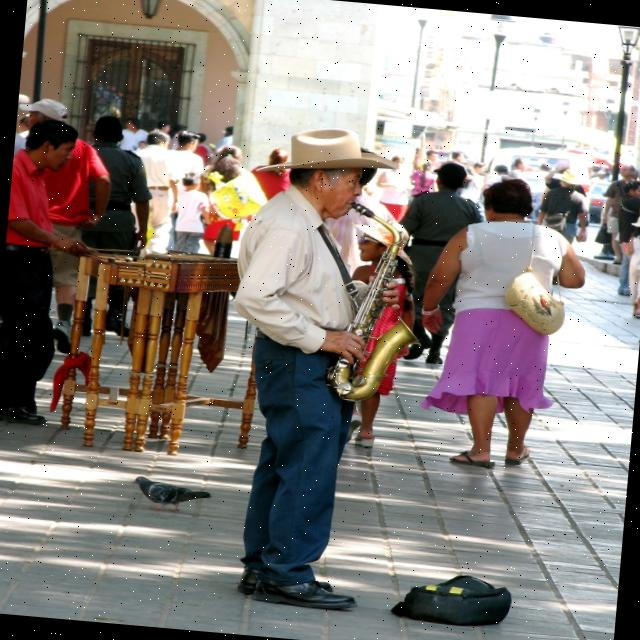saxophone: (326, 201, 434, 404)
